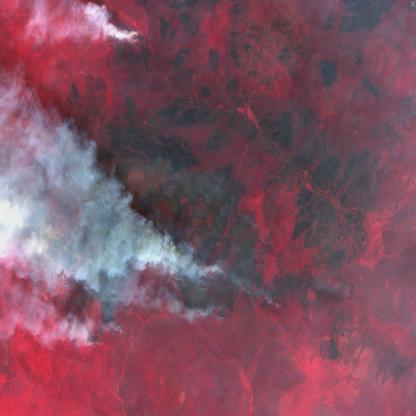fire: (4, 149, 324, 358), (121, 24, 150, 48)
